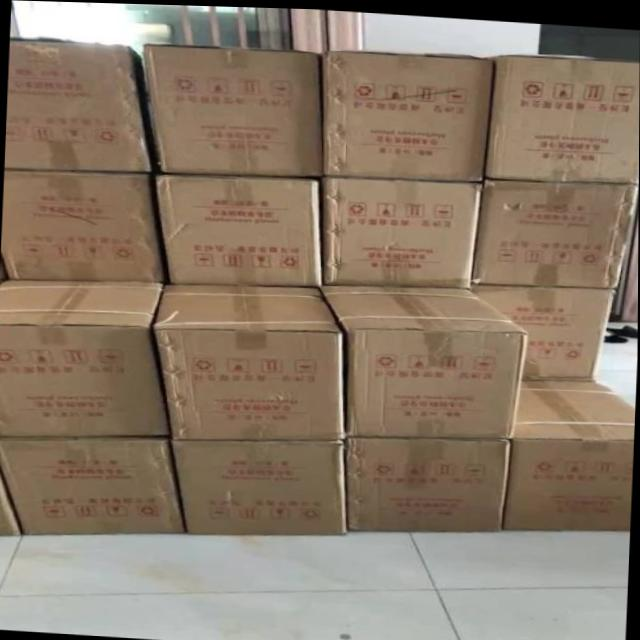box: (321, 283, 524, 438), (151, 284, 347, 437), (0, 280, 168, 437), (141, 42, 324, 176), (320, 48, 496, 180), (504, 376, 636, 527), (4, 36, 151, 171), (151, 172, 327, 283), (1, 169, 172, 283), (487, 51, 640, 178), (471, 175, 639, 283), (0, 438, 187, 534), (169, 436, 350, 533), (327, 176, 483, 283), (345, 433, 511, 530), (475, 281, 618, 376), (0, 459, 28, 536)
